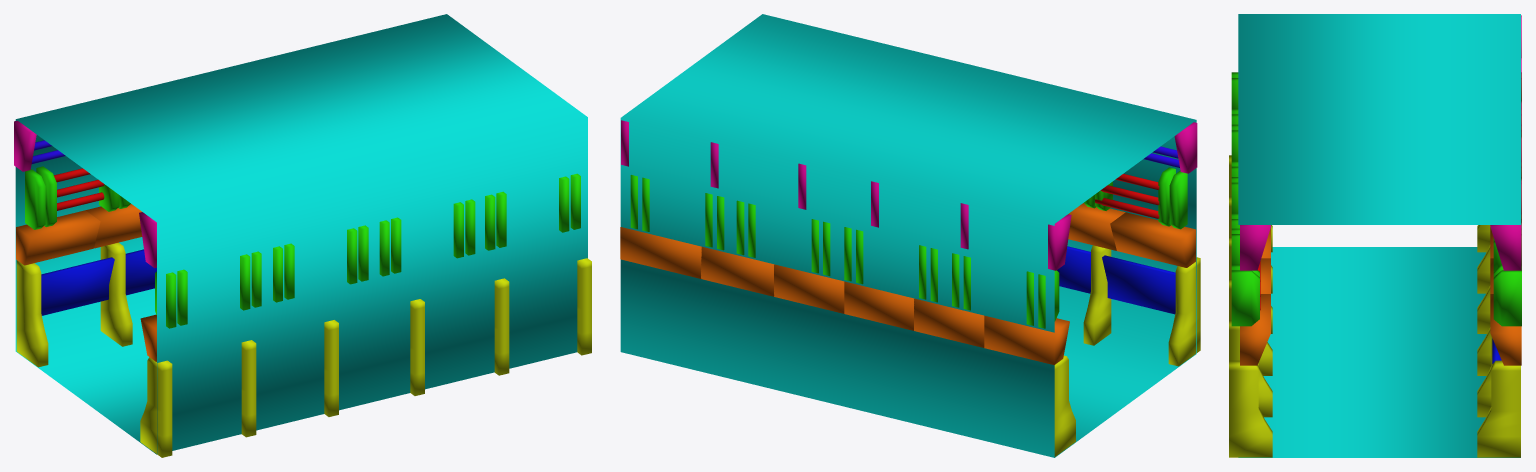
File: ROAD1.fbx
3 renders of one model, left to right at view 1: azimuth 30°, elevation 25°; view 2: azimuth 150°, elevation 25°; view 3: azimuth 270°, elevation 25°, orthographic.
Visible parts, largest first — view 1: Box002; view 2: Box002; view 3: Box002.
Part boxes in pixels (bbox=[...]): Box002: bbox=[14, 14, 591, 457]; Box002: bbox=[620, 14, 1200, 457]; Box002: bbox=[1229, 14, 1521, 457].
Size of the model in its own units: 116 by 59.29 by 67.51.
